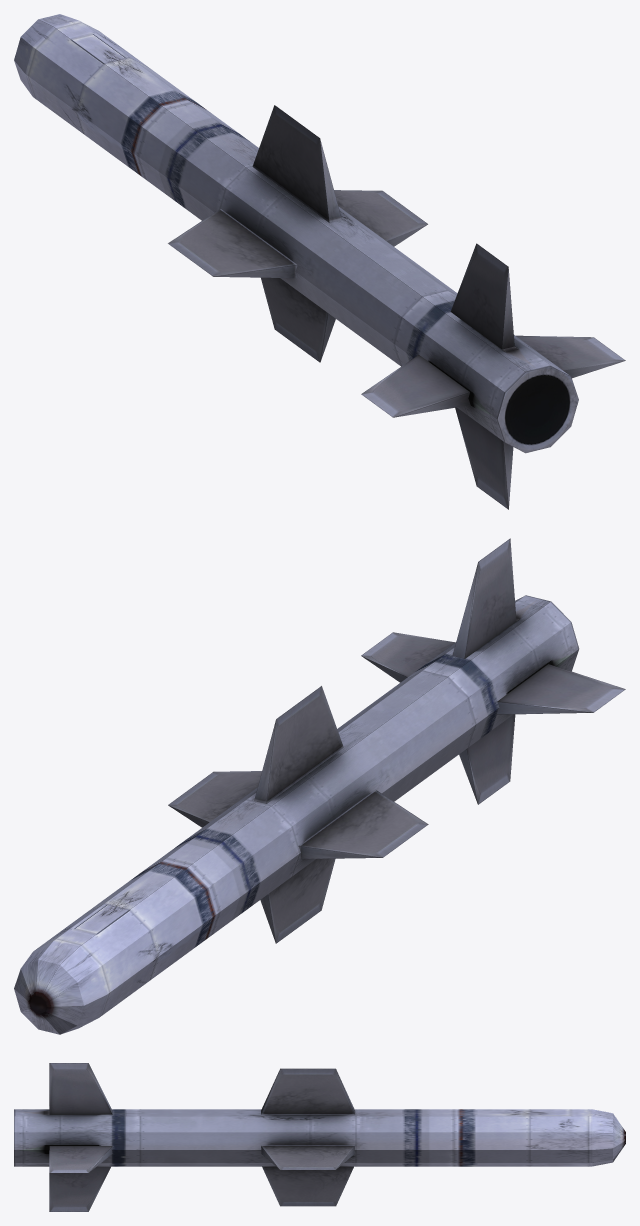
The model's file is missile.obj.
3 views of the same model, one above another, from view 1: azimuth 30°, elevation 25°; view 2: azimuth 150°, elevation 25°; view 3: azimuth 270°, elevation 25° (orthographic). The views are drawn at different scales.
Parts seen in each view (by area): view 1: Cylinder00; view 2: Cylinder00; view 3: Cylinder00.
Boxes of the visible parts, <box> form: Cylinder00: <box>14,14,625,509</box>; Cylinder00: <box>14,538,625,1034</box>; Cylinder00: <box>14,1063,625,1211</box>.
Size of the model in its own units: 2.58 by 2.58 by 9.61.
Materials: 1 (1 with a texture image).
